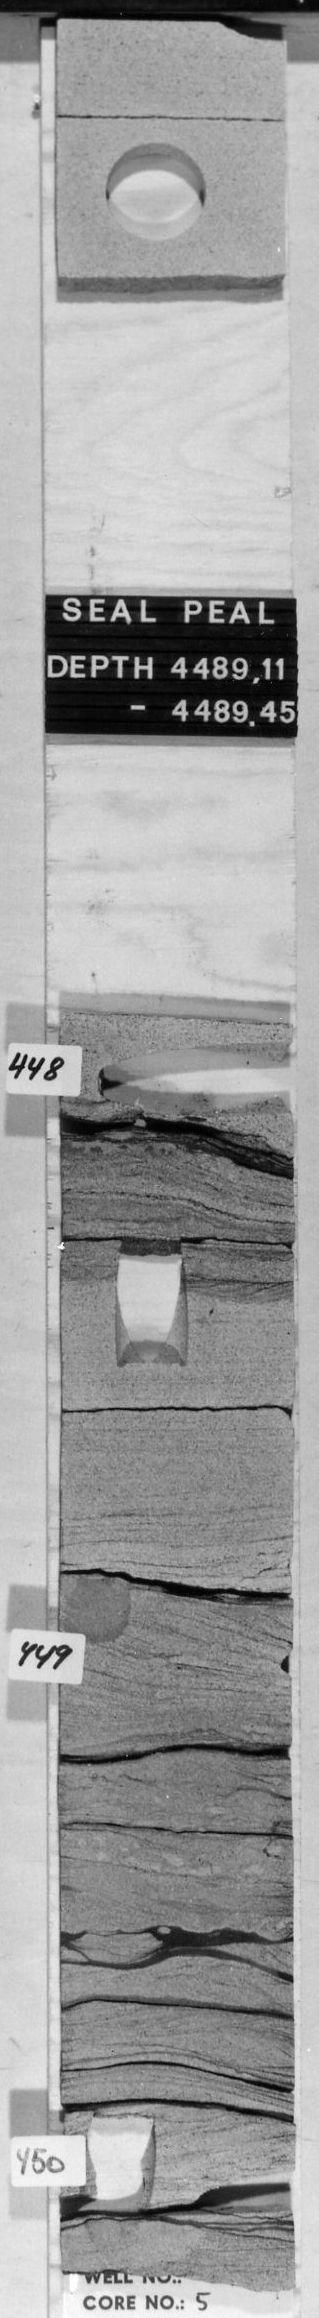hplug: (96, 1047, 284, 1124), (191, 2161, 292, 2243)
scal: (89, 135, 222, 247)
vplug: (106, 1240, 196, 1379), (78, 2108, 161, 2223), (61, 1568, 136, 1647)
